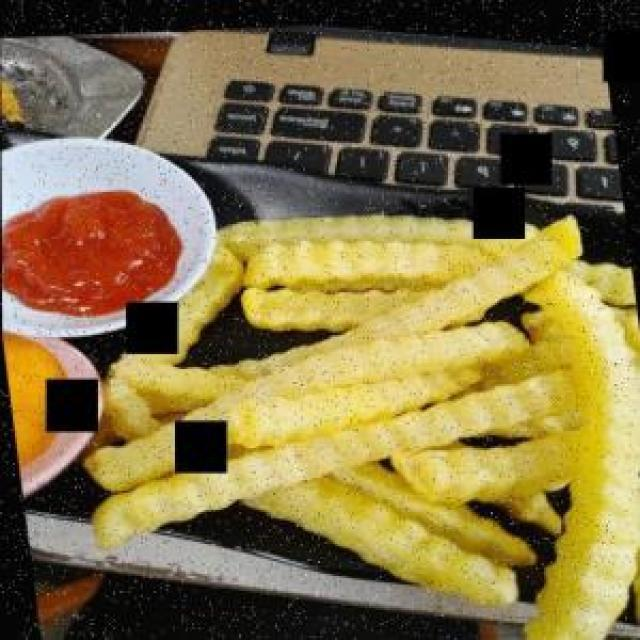French Fries: (119, 136, 639, 640)
